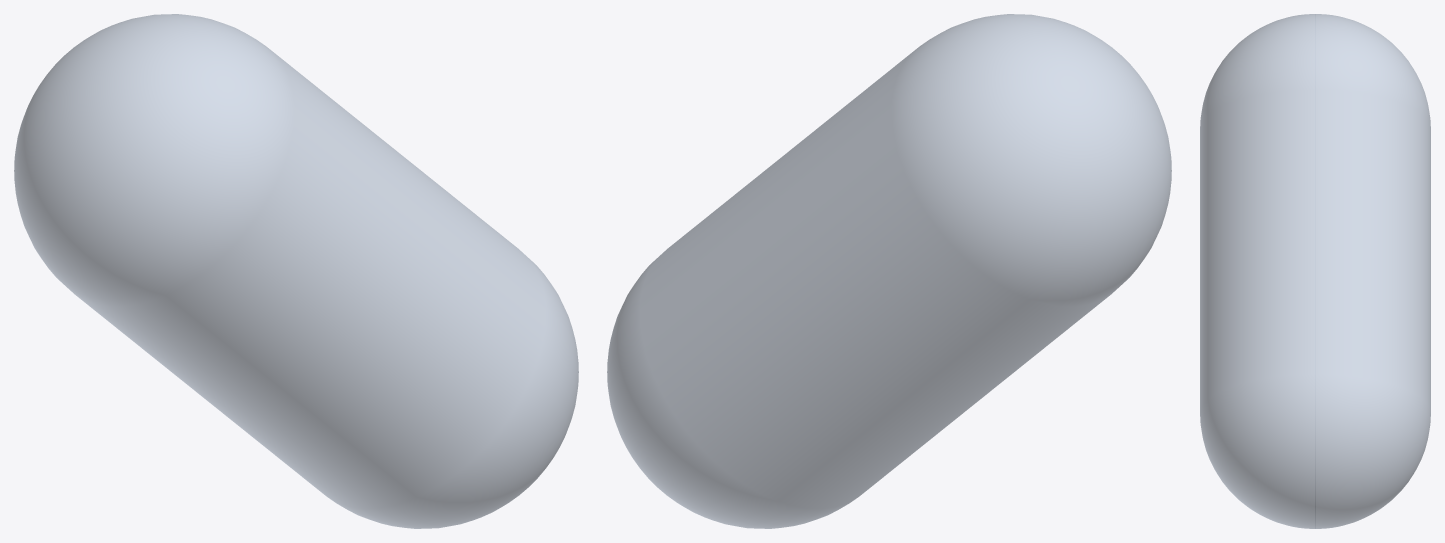
File: abstract-pill-001.glb
3 renders of one model, left to right at view 1: azimuth 30°, elevation 25°; view 2: azimuth 150°, elevation 25°; view 3: azimuth 270°, elevation 25°, orthographic. The views are drawn at different scales.
Parts seen in each view (by area): view 1: abstract-pill-001-0; view 2: abstract-pill-001-0; view 3: abstract-pill-001-0.
Boxes of the visible parts, x1,y1,x2,y2 form: abstract-pill-001-0: (14,14,578,528); abstract-pill-001-0: (607,14,1171,528); abstract-pill-001-0: (1200,14,1430,528).
Size of the model in its own units: 1.62 by 1.62 by 0.84.
